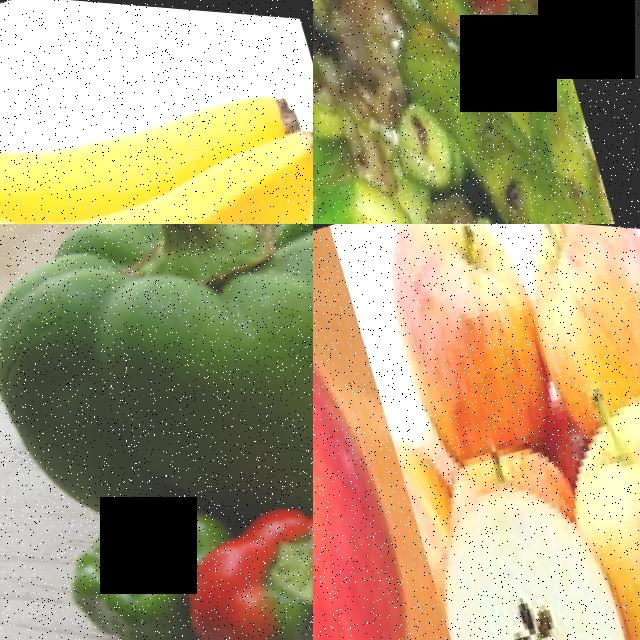apple: (313, 241, 526, 640), (347, 224, 585, 468), (393, 430, 640, 640), (487, 224, 640, 425), (538, 347, 640, 640), (421, 391, 578, 515)
banana: (0, 0, 313, 224)
bell pepper: (0, 224, 313, 553), (54, 494, 220, 640), (188, 457, 313, 640)
